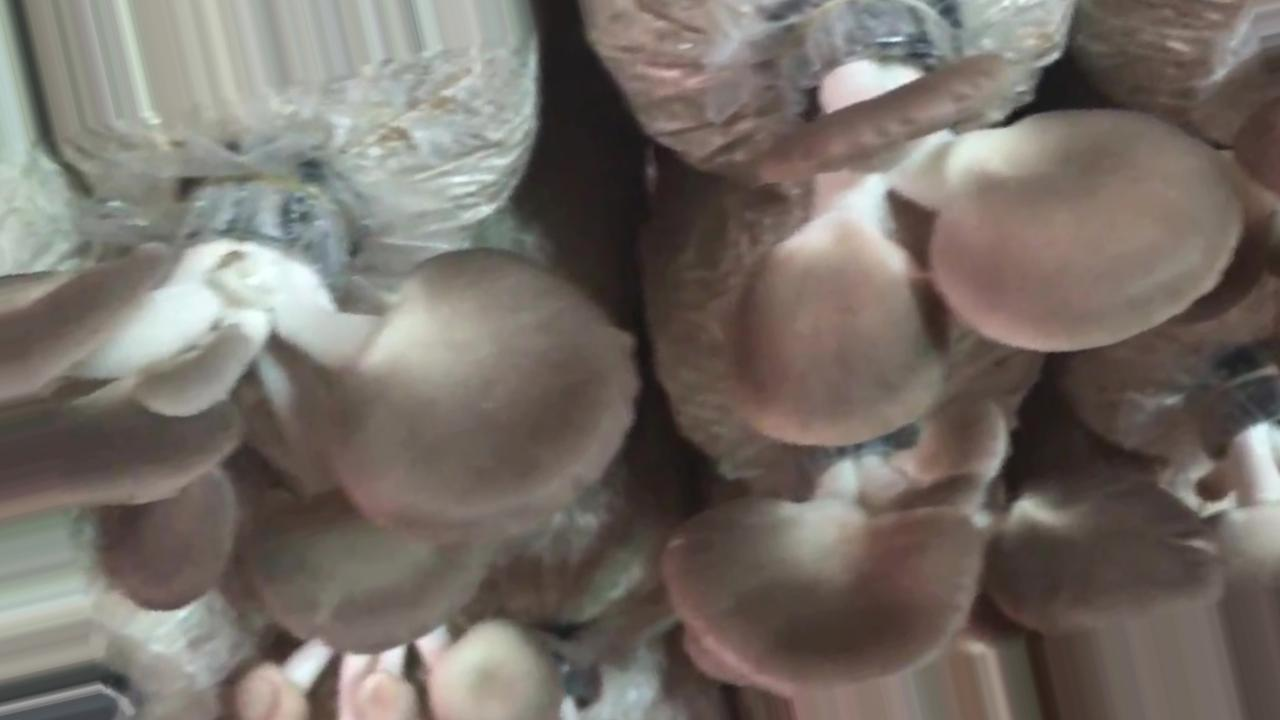nam: (1, 177, 632, 652), (728, 1, 1240, 442), (663, 425, 1224, 691), (238, 618, 566, 720)
